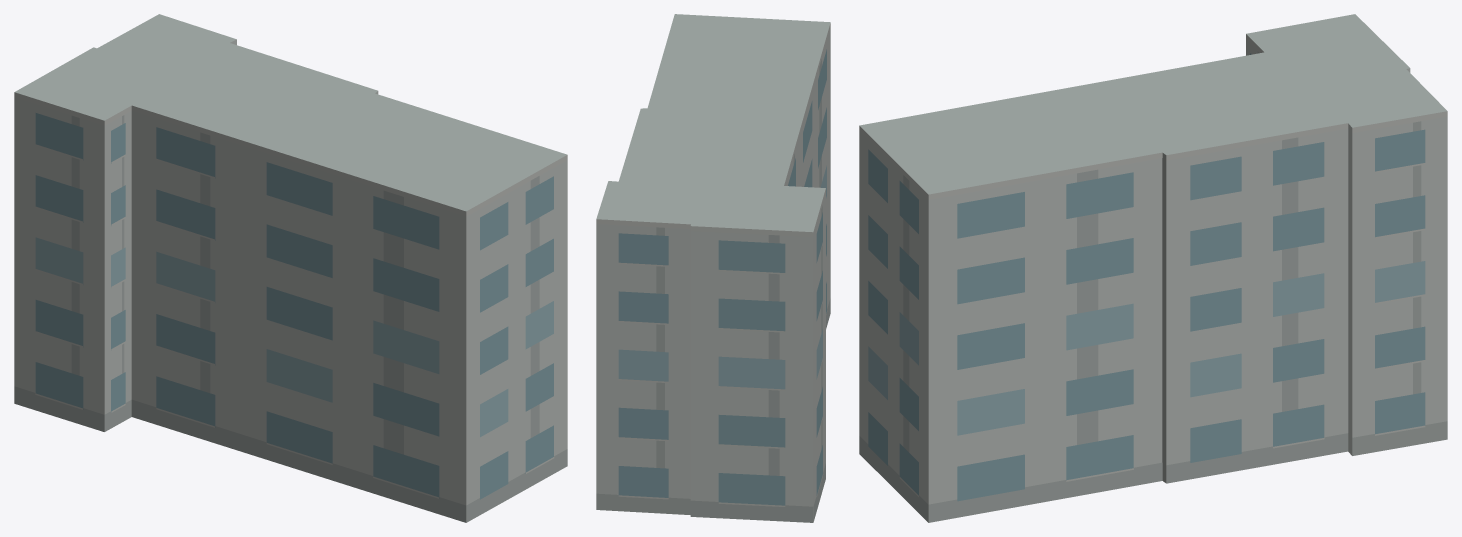
File: survey-upis-33041748.glb
3 views of the same model, side by side, from view 1: azimuth 30°, elevation 25°; view 2: azimuth 150°, elevation 25°; view 3: azimuth 270°, elevation 25° (orthographic). The views are drawn at different scales.
Parts seen in each view (by area): view 1: survey-upis-33041748.tmp; view 2: survey-upis-33041748.tmp; view 3: survey-upis-33041748.tmp.
Boxes of the visible parts, x1,y1,x2,y2 form: survey-upis-33041748.tmp: (14, 14, 567, 522); survey-upis-33041748.tmp: (596, 14, 830, 522); survey-upis-33041748.tmp: (859, 14, 1447, 522).
Bounding box in the file's own units: 17.11 × 14.5 × 23.56.
